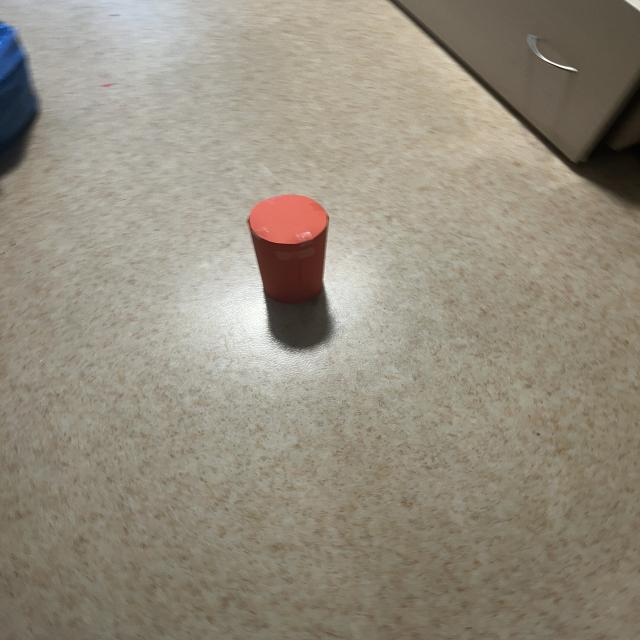przeszkoda: (248, 195, 329, 303)
